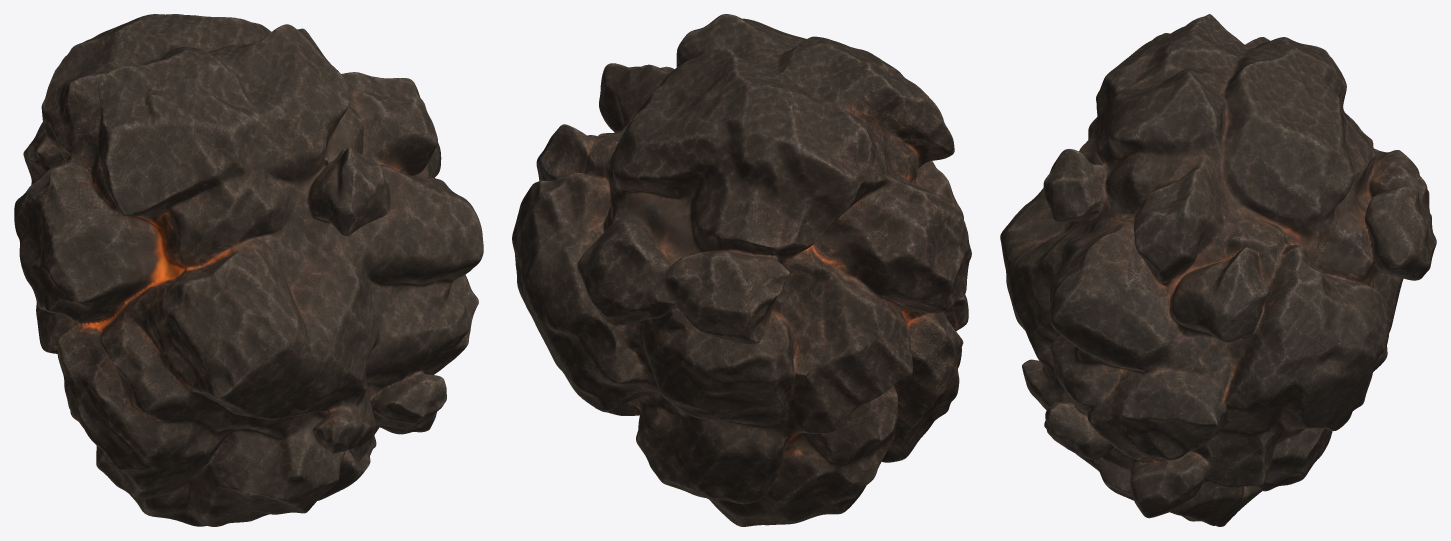
File: asteroide-marron.glb
3 renders of one model, left to right at view 1: azimuth 30°, elevation 25°; view 2: azimuth 150°, elevation 25°; view 3: azimuth 270°, elevation 25°, orthographic. The views are drawn at different scales.
Visible parts, largest first — view 1: Mesh_0; view 2: Mesh_0; view 3: Mesh_0.
Part boxes in pixels (bbox=[...]): Mesh_0: bbox=[14, 14, 483, 526]; Mesh_0: bbox=[512, 14, 971, 526]; Mesh_0: bbox=[1000, 14, 1436, 526].
Size of the model in its own units: 1.69 by 1.9 by 1.62.
Materials: 1 (1 with a texture image).
